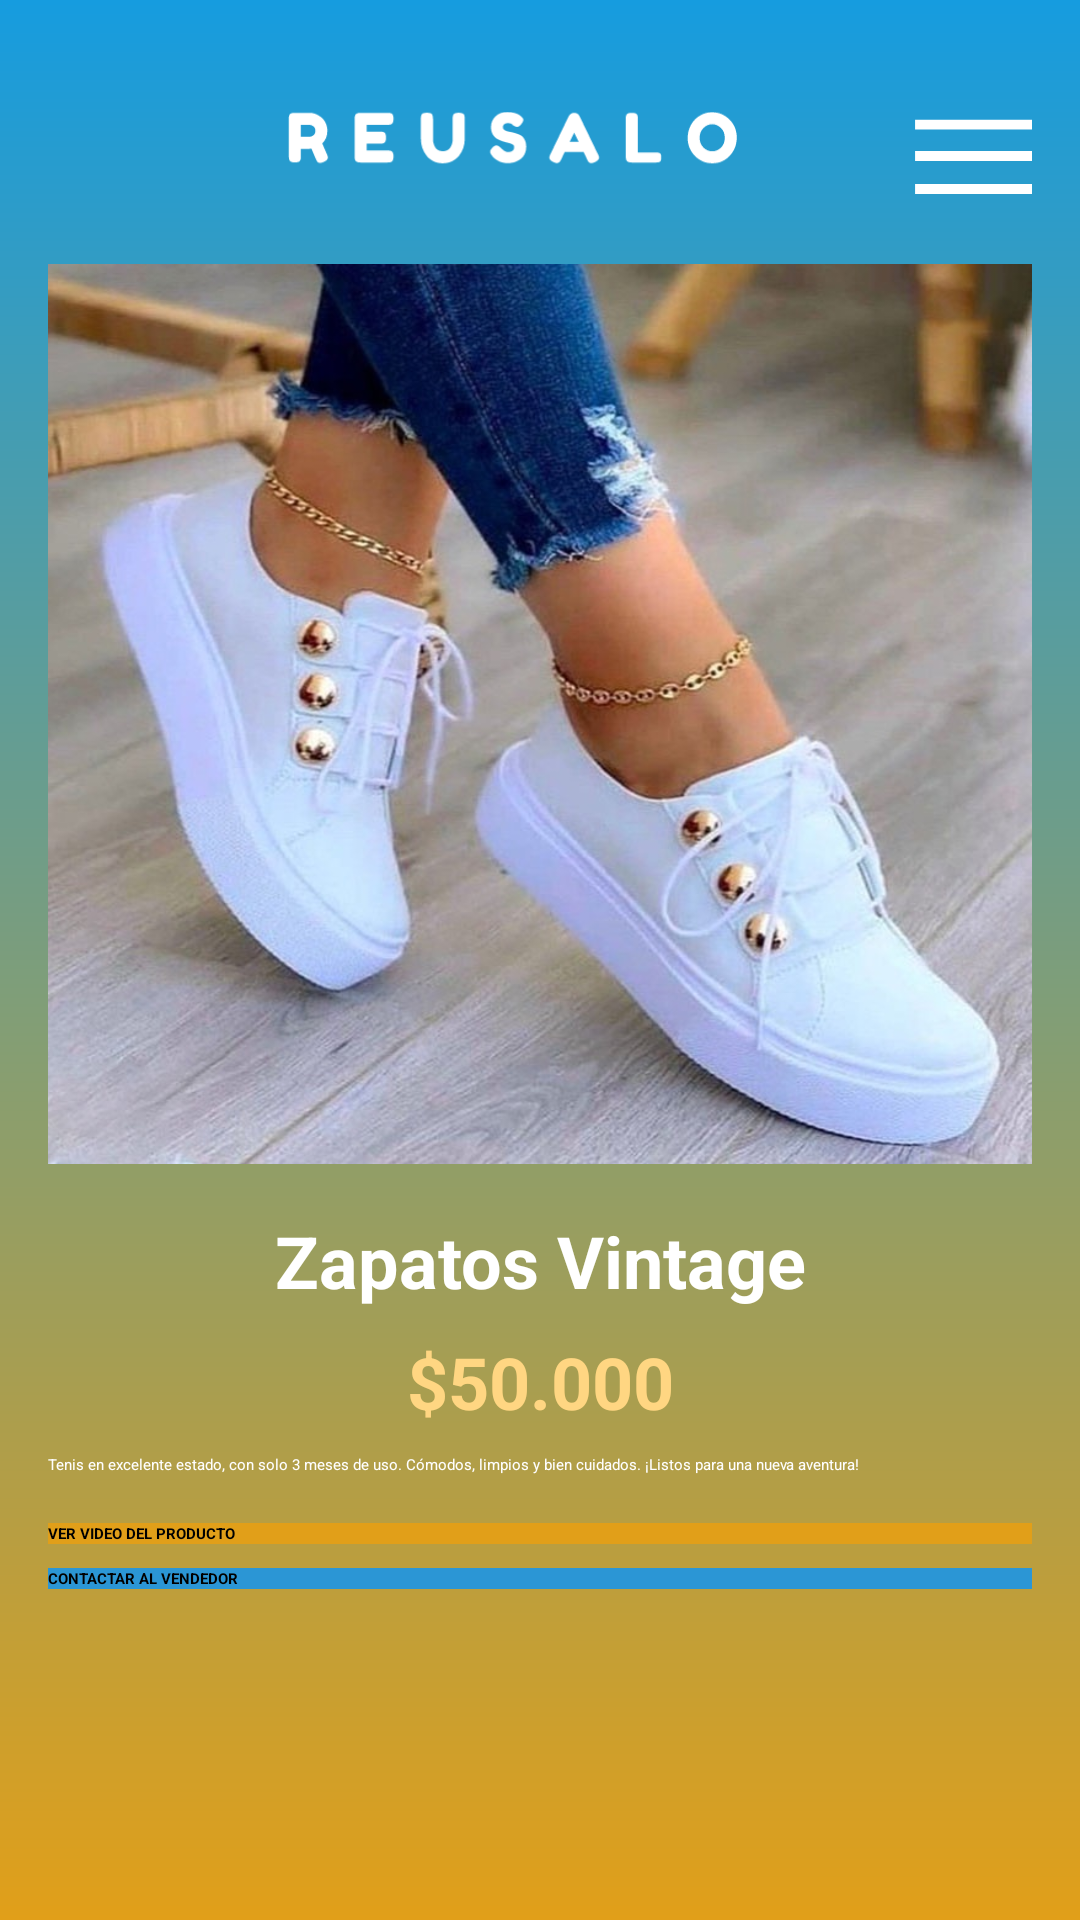

Where to tap for icons on this 1080×1920 app screen, as [x,y]:
Menú: [973,156]
